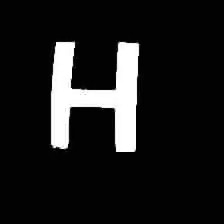LTR_H: (42, 33, 146, 160)
